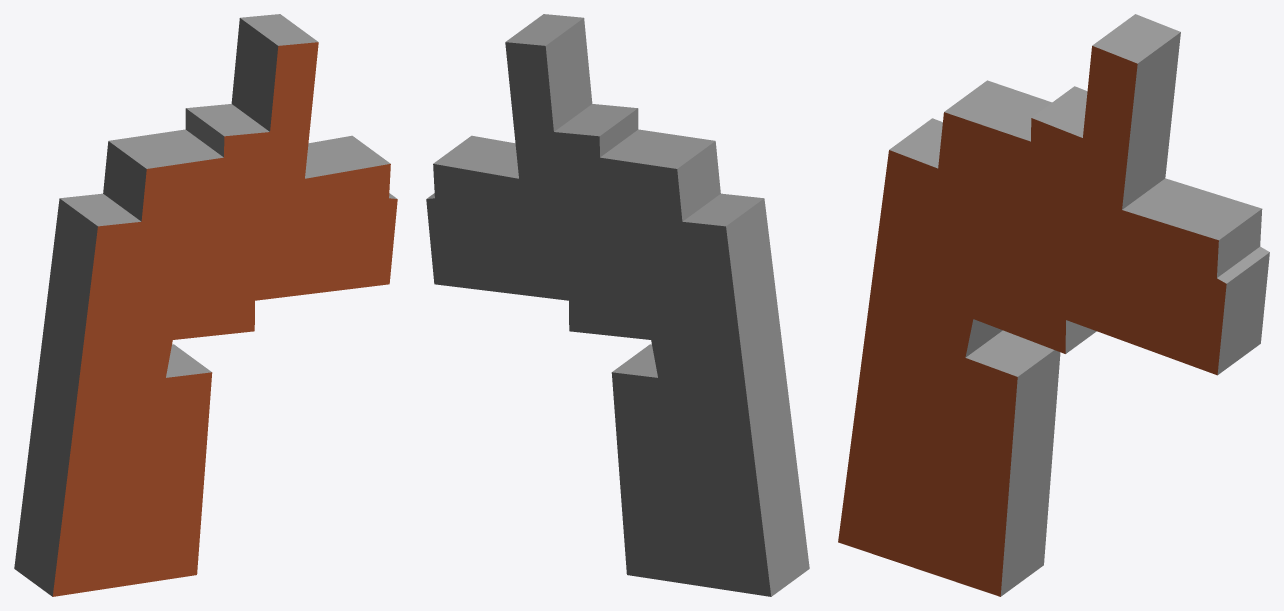
File: construction_3826_assumed_A_Casa_h6m.obj
3 views of the same model, side by side, from view 1: azimuth 30°, elevation 25°; view 2: azimuth 150°, elevation 25°; view 3: azimuth 330°, elevation 25° (orthographic). The views are drawn at different scales.
Parts seen in each view (by area): view 1: construction_3826_assumed_A_Casa; view 2: construction_3826_assumed_A_Casa; view 3: construction_3826_assumed_A_Casa.
Boxes of the visible parts, x1,y1,x2,y2 form: construction_3826_assumed_A_Casa: (14,14,397,596); construction_3826_assumed_A_Casa: (426,14,809,596); construction_3826_assumed_A_Casa: (838,14,1269,596).
Bounding box in the file's own units: 31.08 × 43.83 × 6.
